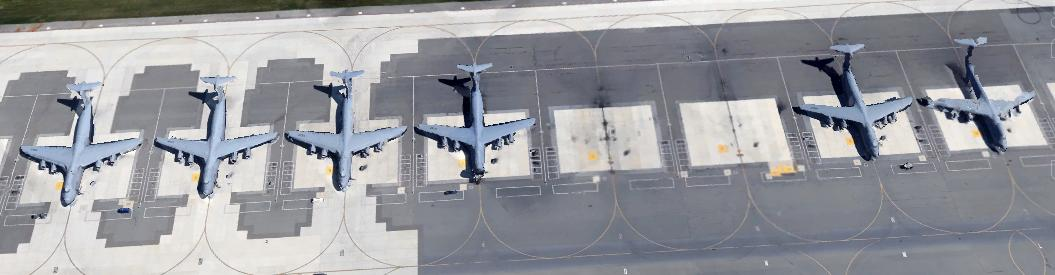KC-135: (154, 70, 283, 200), (17, 79, 146, 208), (280, 64, 412, 190), (797, 41, 925, 164), (415, 56, 539, 182), (927, 30, 1046, 153)
